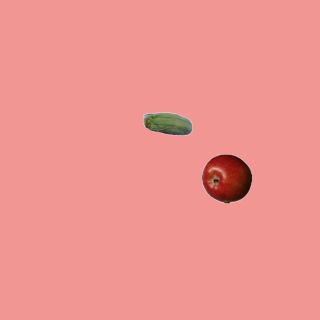Apple Braeburn: (201, 153, 251, 203)
Corn Husk: (142, 100, 192, 150)
